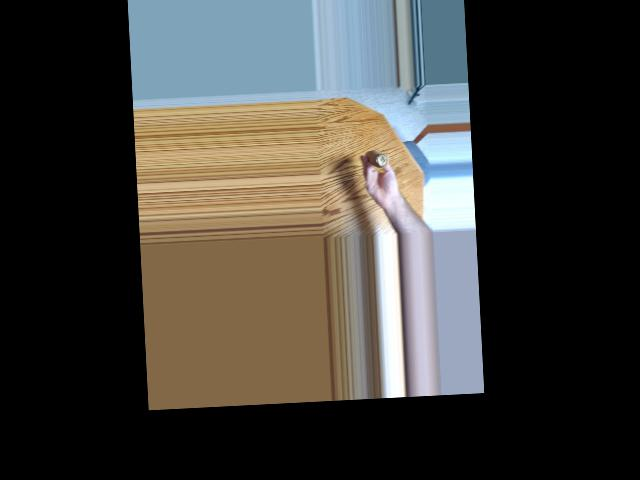sweet_potato: (364, 146, 392, 174)
